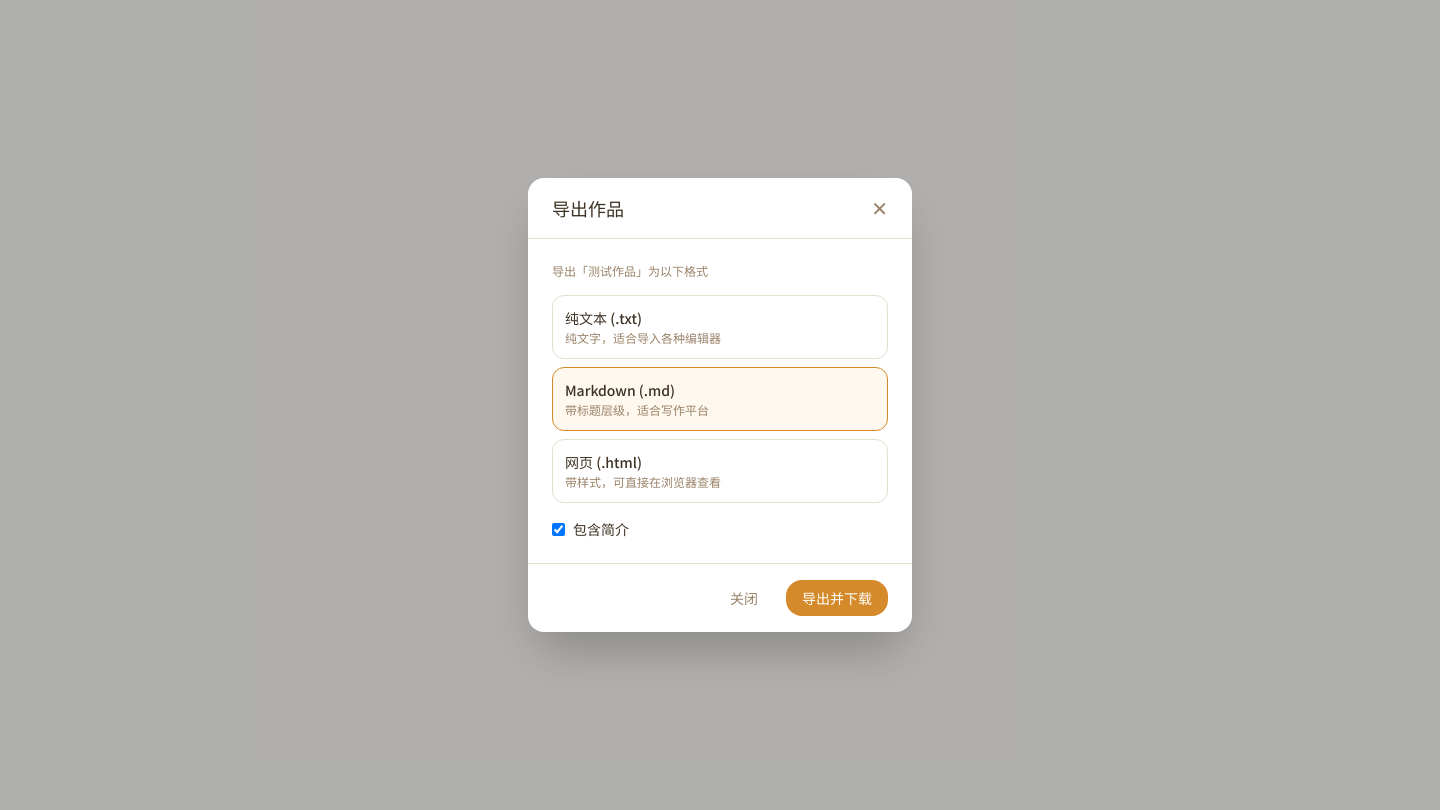
ExportDialog › should show error when export throws
Click the button "导出并下载". click: [837, 598]
box: [786,580,888,616]
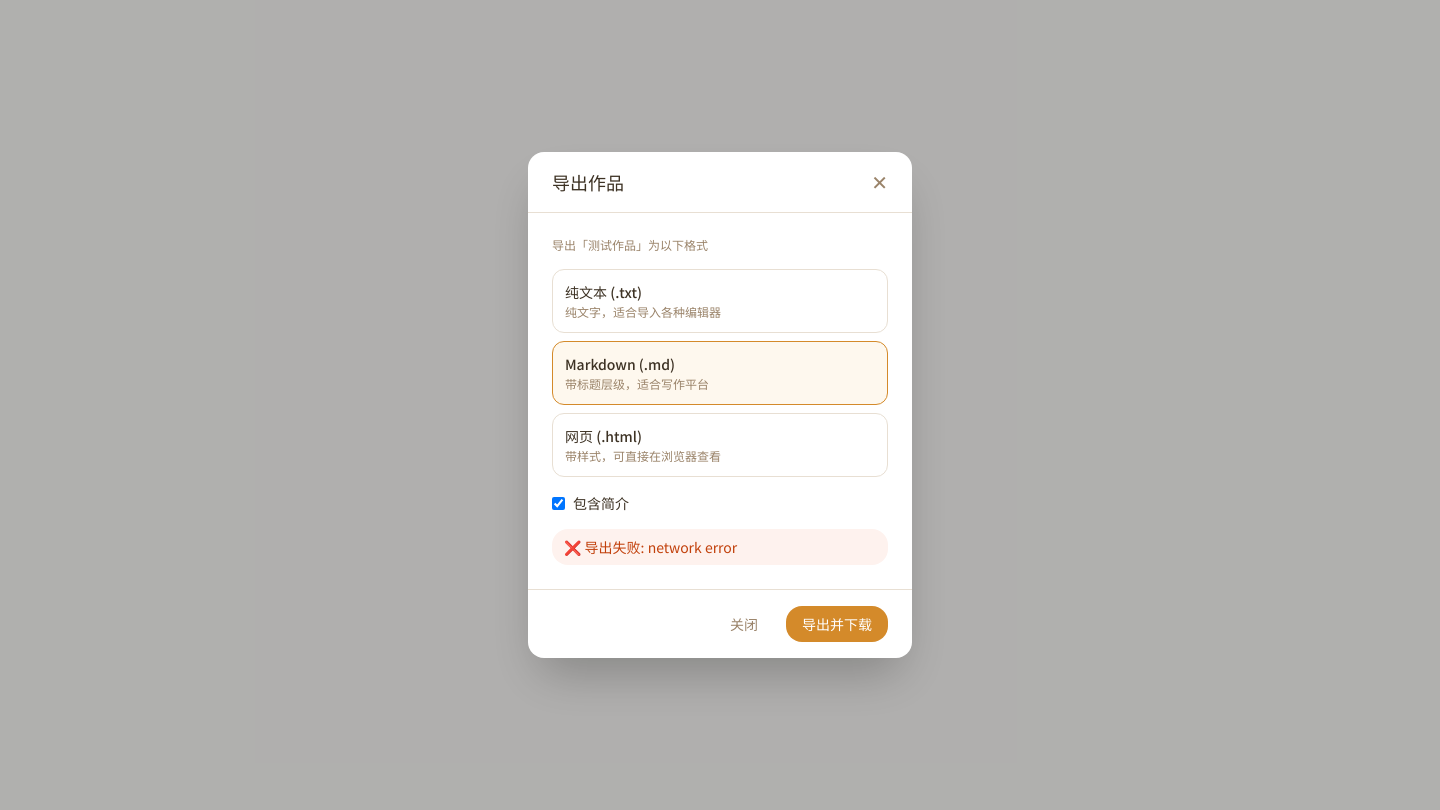
Expected: the text "❌ 导出失败: network error" is shown, [552,529,888,565]
